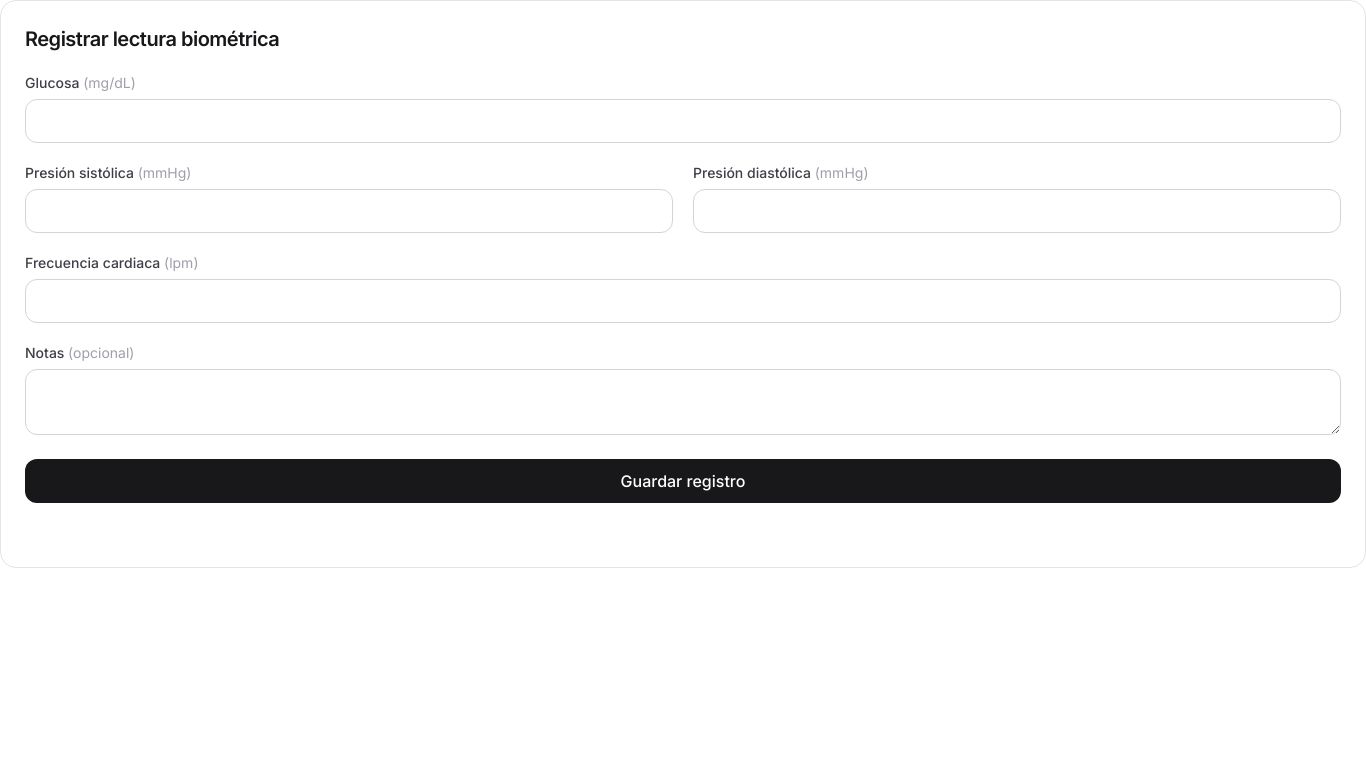
it: BiometricForm › muestra un error en español y no envía el formulario si falta un campo obligatorio
Click the button "Guardar registro": click(683, 481) [25,459,1341,503]
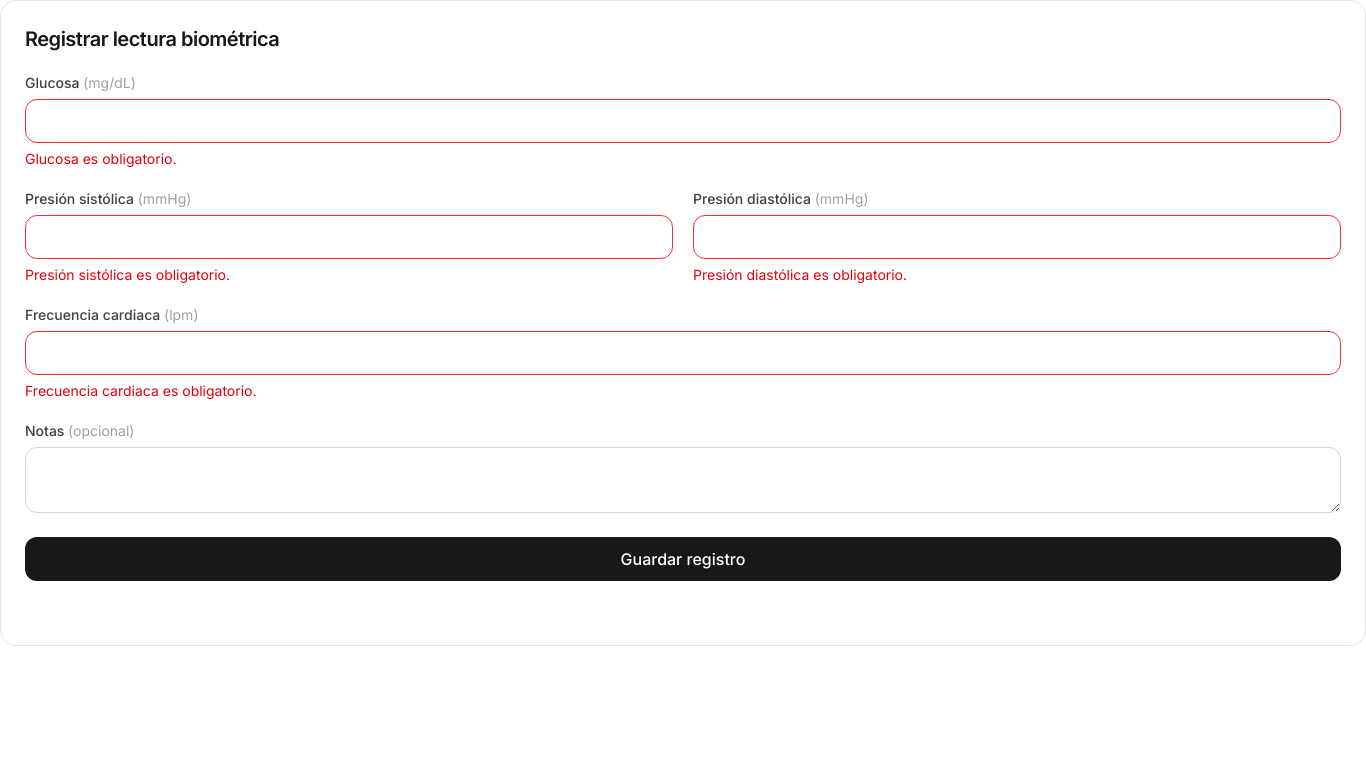
expect the text "Glucosa es obligatorio." is shown: met, box [25,150,176,167]
